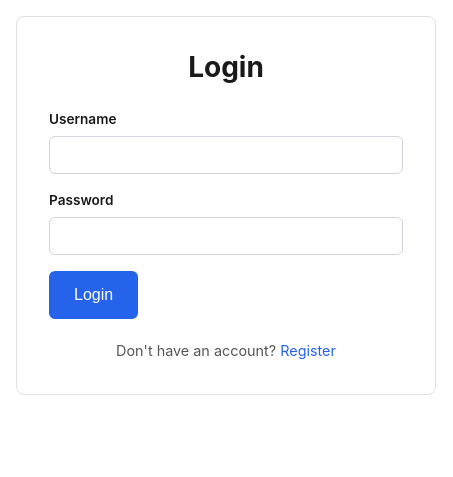
Login Page › shows validation error for empty fields
Click the button "Login": (94, 295) [49, 271, 138, 319]
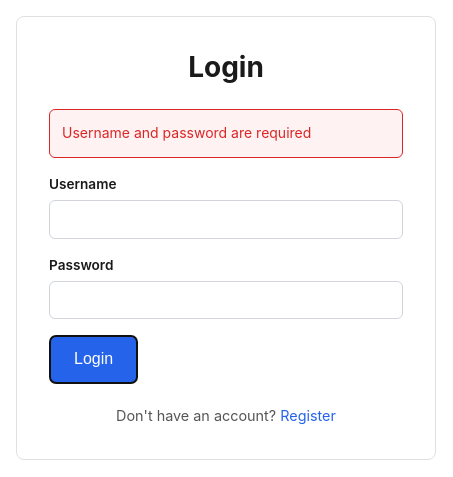
Expected: the text "Username and password are required" is shown, [49, 109, 403, 158]
